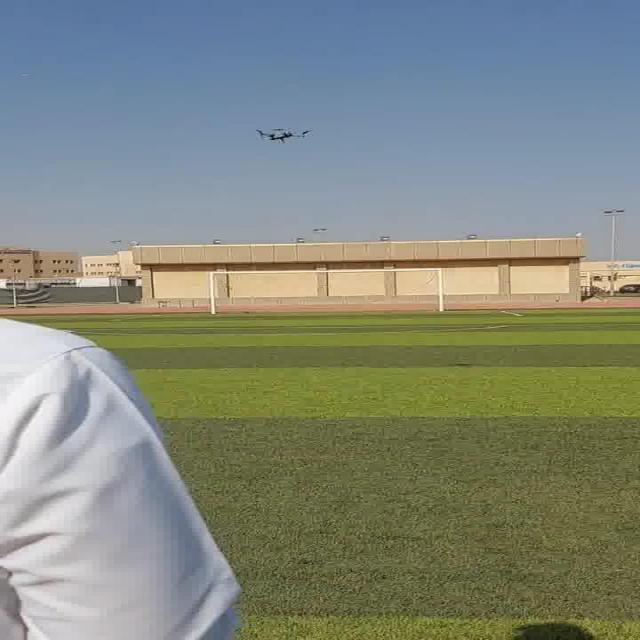drone: (250, 120, 311, 145)
